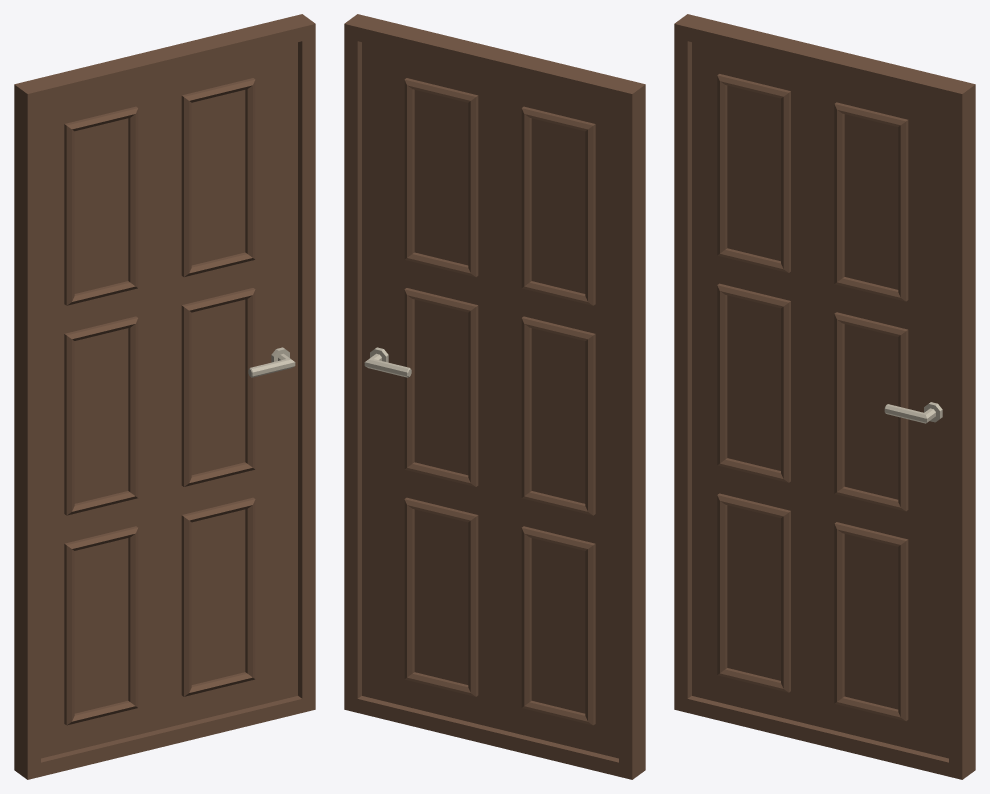
Rendered from Mesh_Door_B06.fbx.
The picture shows the model from 3 angles, left to right: view 1: azimuth 30°, elevation 25°; view 2: azimuth 150°, elevation 25°; view 3: azimuth 330°, elevation 25°; orthographic projection.
Parts seen in each view (by area): view 1: Mesh_Door_B06; view 2: Mesh_Door_B06; view 3: Mesh_Door_B06.
Boxes of the visible parts, x1,y1,x2,y2 form: Mesh_Door_B06: (14, 14, 315, 779); Mesh_Door_B06: (344, 14, 645, 779); Mesh_Door_B06: (674, 14, 975, 779).
Size of the model in its own units: 0.9 by 2.05 by 0.1524.
